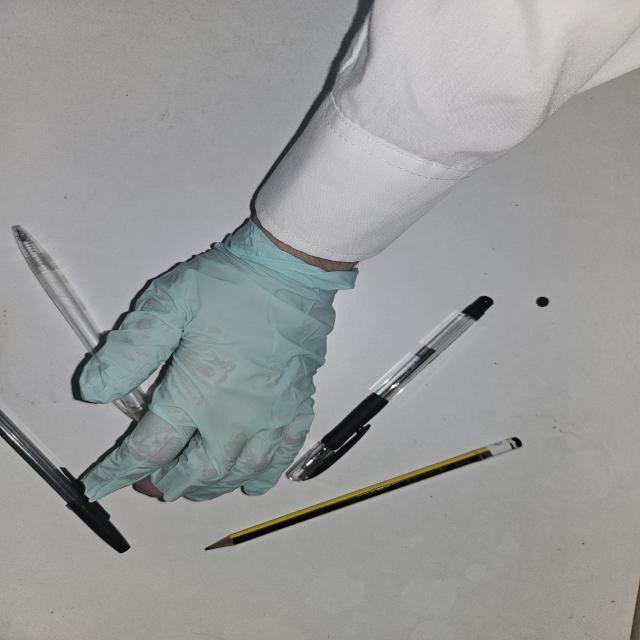gloves_damaged: (70, 218, 369, 502)
